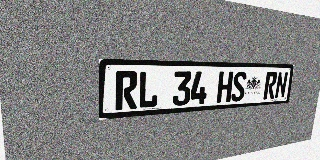3: (172, 71, 192, 106)
4: (190, 71, 208, 105)
H: (216, 71, 233, 103)
L: (138, 71, 159, 109)
N: (274, 72, 288, 99)
R: (115, 71, 138, 110), (263, 72, 278, 99)
S: (231, 72, 247, 102)
